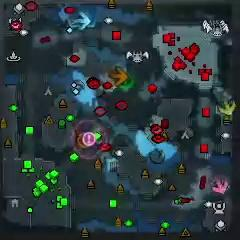Other: (83, 132, 96, 146)
x1: (213, 179, 229, 193)
x2: (218, 98, 235, 115)
x3: (72, 11, 91, 29)
x4: (117, 76, 135, 92)
x5: (110, 66, 128, 86)
